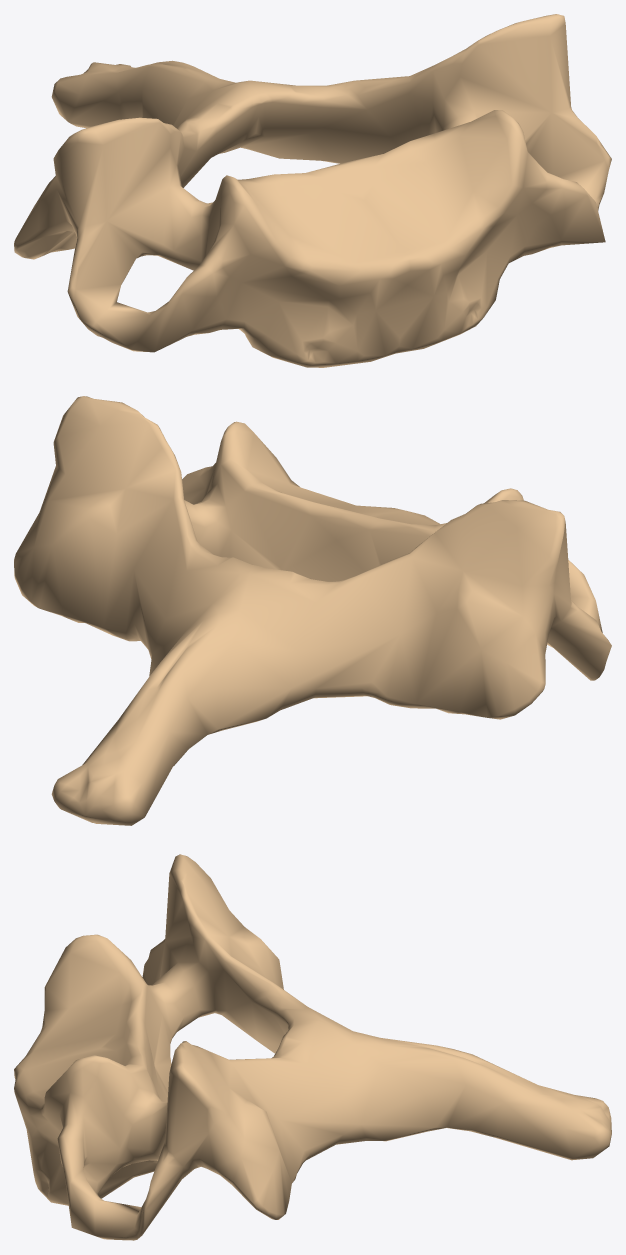
Rendered from C6_Generated_Mesh_From_X3D.014.glb.
3 renders of one model, top to bottom at view 1: azimuth 30°, elevation 25°; view 2: azimuth 150°, elevation 25°; view 3: azimuth 270°, elevation 25°, orthographic. The views are drawn at different scales.
Parts seen in each view (by area): view 1: C6_Generated_Mesh_From_X3D.014; view 2: C6_Generated_Mesh_From_X3D.014; view 3: C6_Generated_Mesh_From_X3D.014.
Part boxes in pixels (x1,y1,x2,y2): C6_Generated_Mesh_From_X3D.014: (14,14,611,367); C6_Generated_Mesh_From_X3D.014: (14,396,611,825); C6_Generated_Mesh_From_X3D.014: (14,854,611,1240).
Size of the model in its own units: 0.0613 by 0.0246 by 0.0636.
